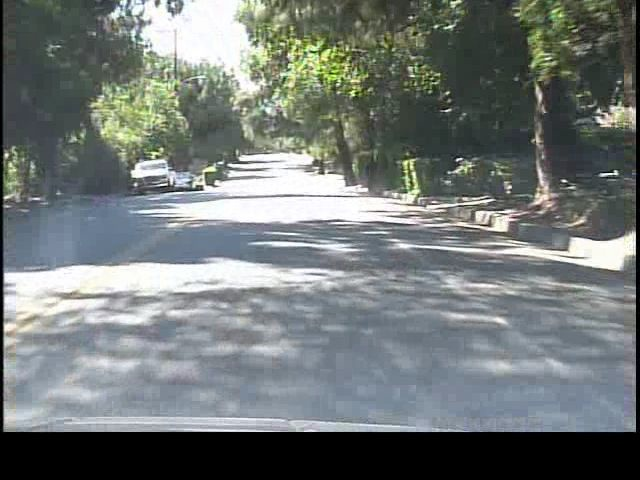person: (363, 154, 382, 201)
